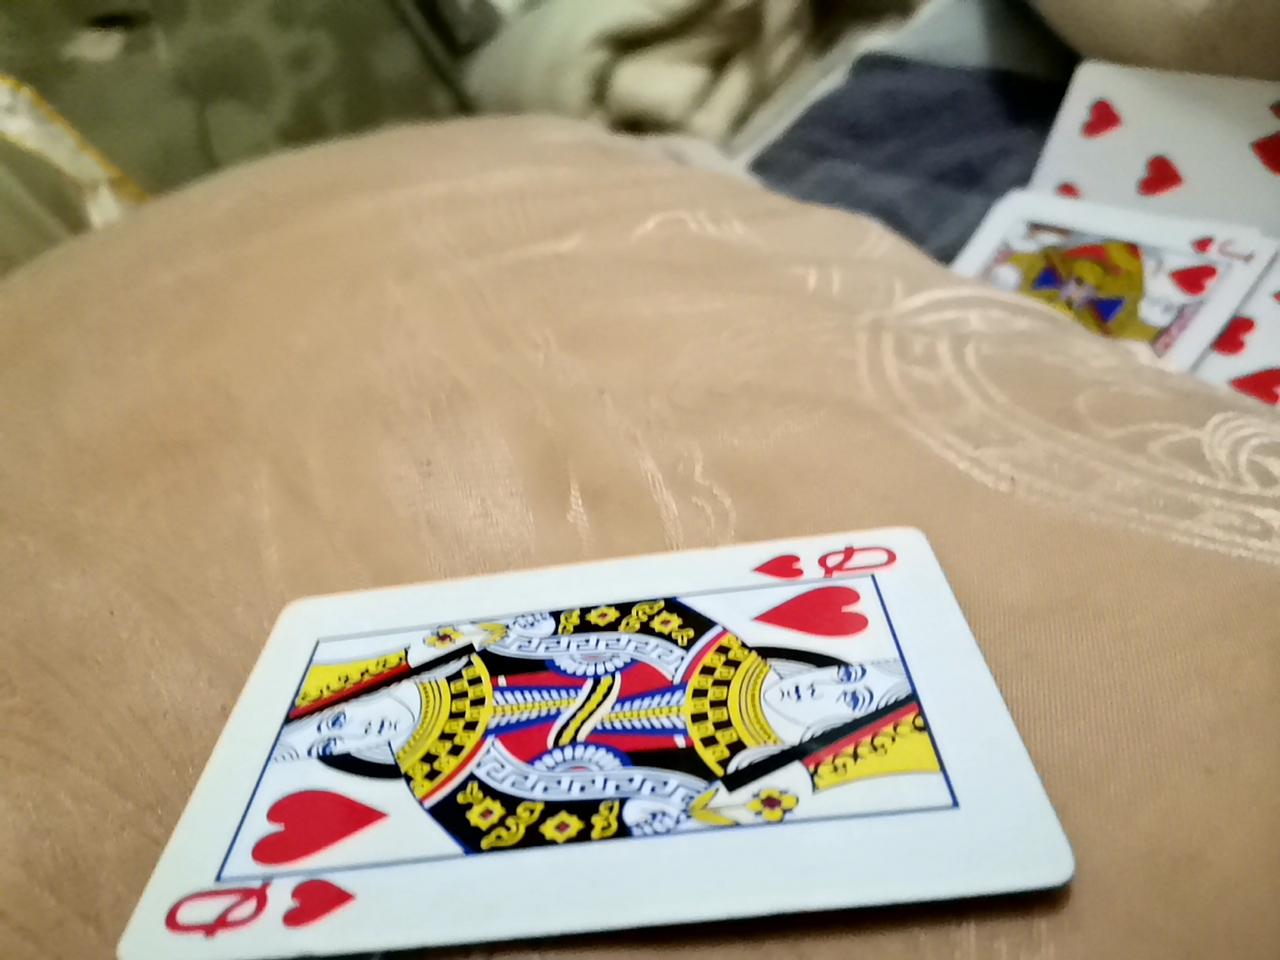hx q: (144, 538, 1104, 953)
